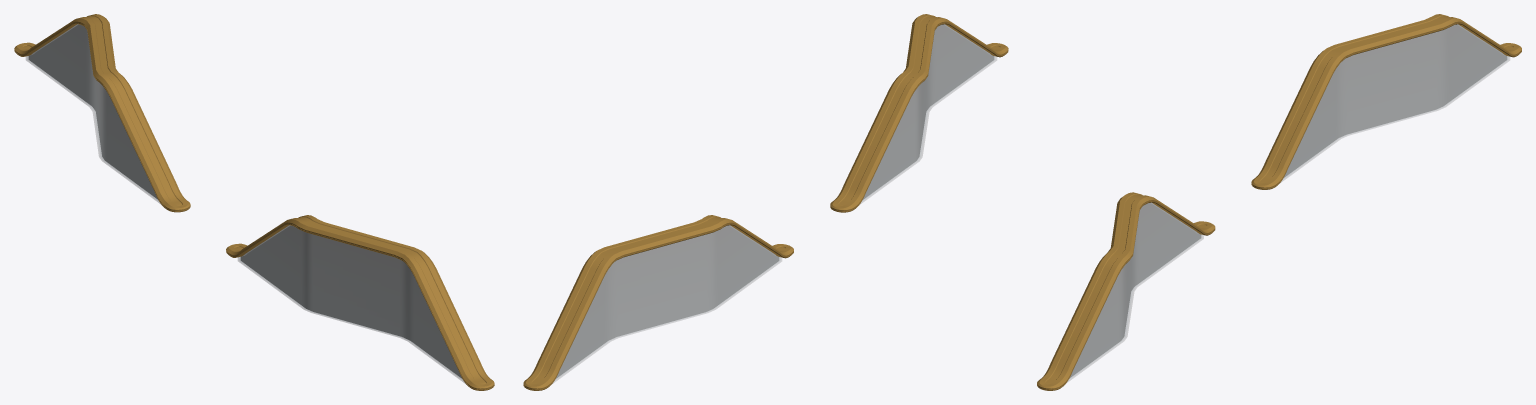
The model's file is BSPKWL_Front.fbx.
The picture shows the model from 3 angles, left to right: view 1: azimuth 30°, elevation 25°; view 2: azimuth 150°, elevation 25°; view 3: azimuth 330°, elevation 25°; orthographic projection.
Visible parts, largest first — view 1: sm_wall_medium_screen.009; view 2: sm_wall_medium_screen.009; view 3: sm_wall_medium_screen.009.
Part boxes in pixels (bbox=[...]): sm_wall_medium_screen.009: bbox=[14, 14, 494, 390]; sm_wall_medium_screen.009: bbox=[523, 14, 1008, 390]; sm_wall_medium_screen.009: bbox=[1037, 14, 1521, 390].
Size of the model in its own units: 511 by 610 by 5950.
